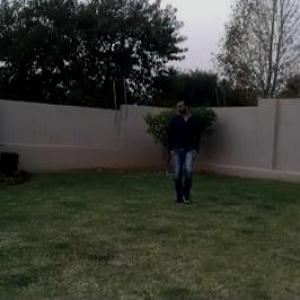follow: (166, 95, 198, 205)
